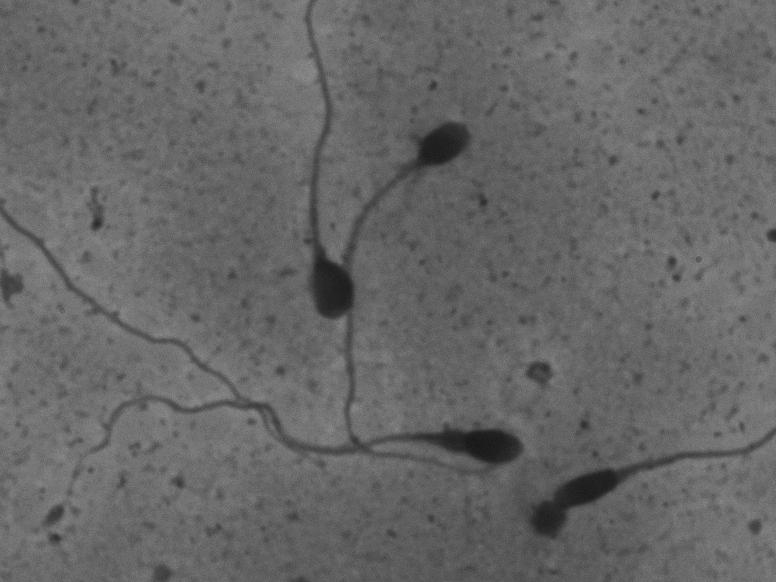Abnormal: (54, 381, 529, 548), (271, 8, 360, 326), (556, 402, 763, 534)
Normal: (337, 109, 495, 480)
